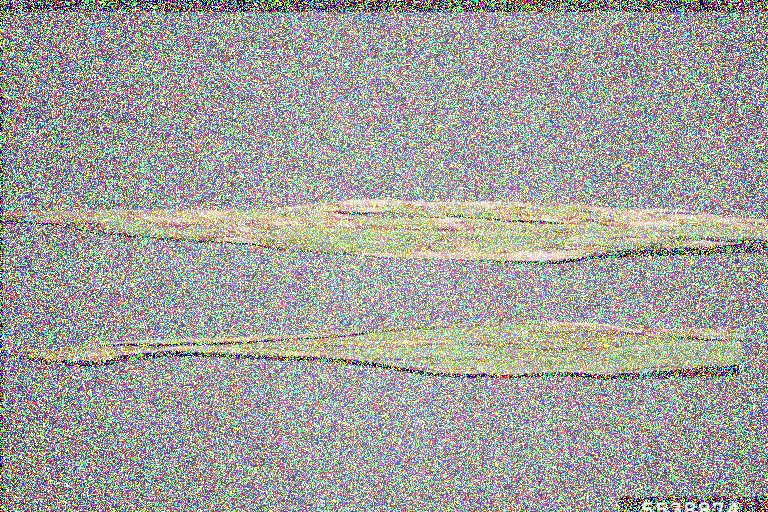Leaf_Blast: (53, 189, 761, 263), (75, 308, 734, 353)
